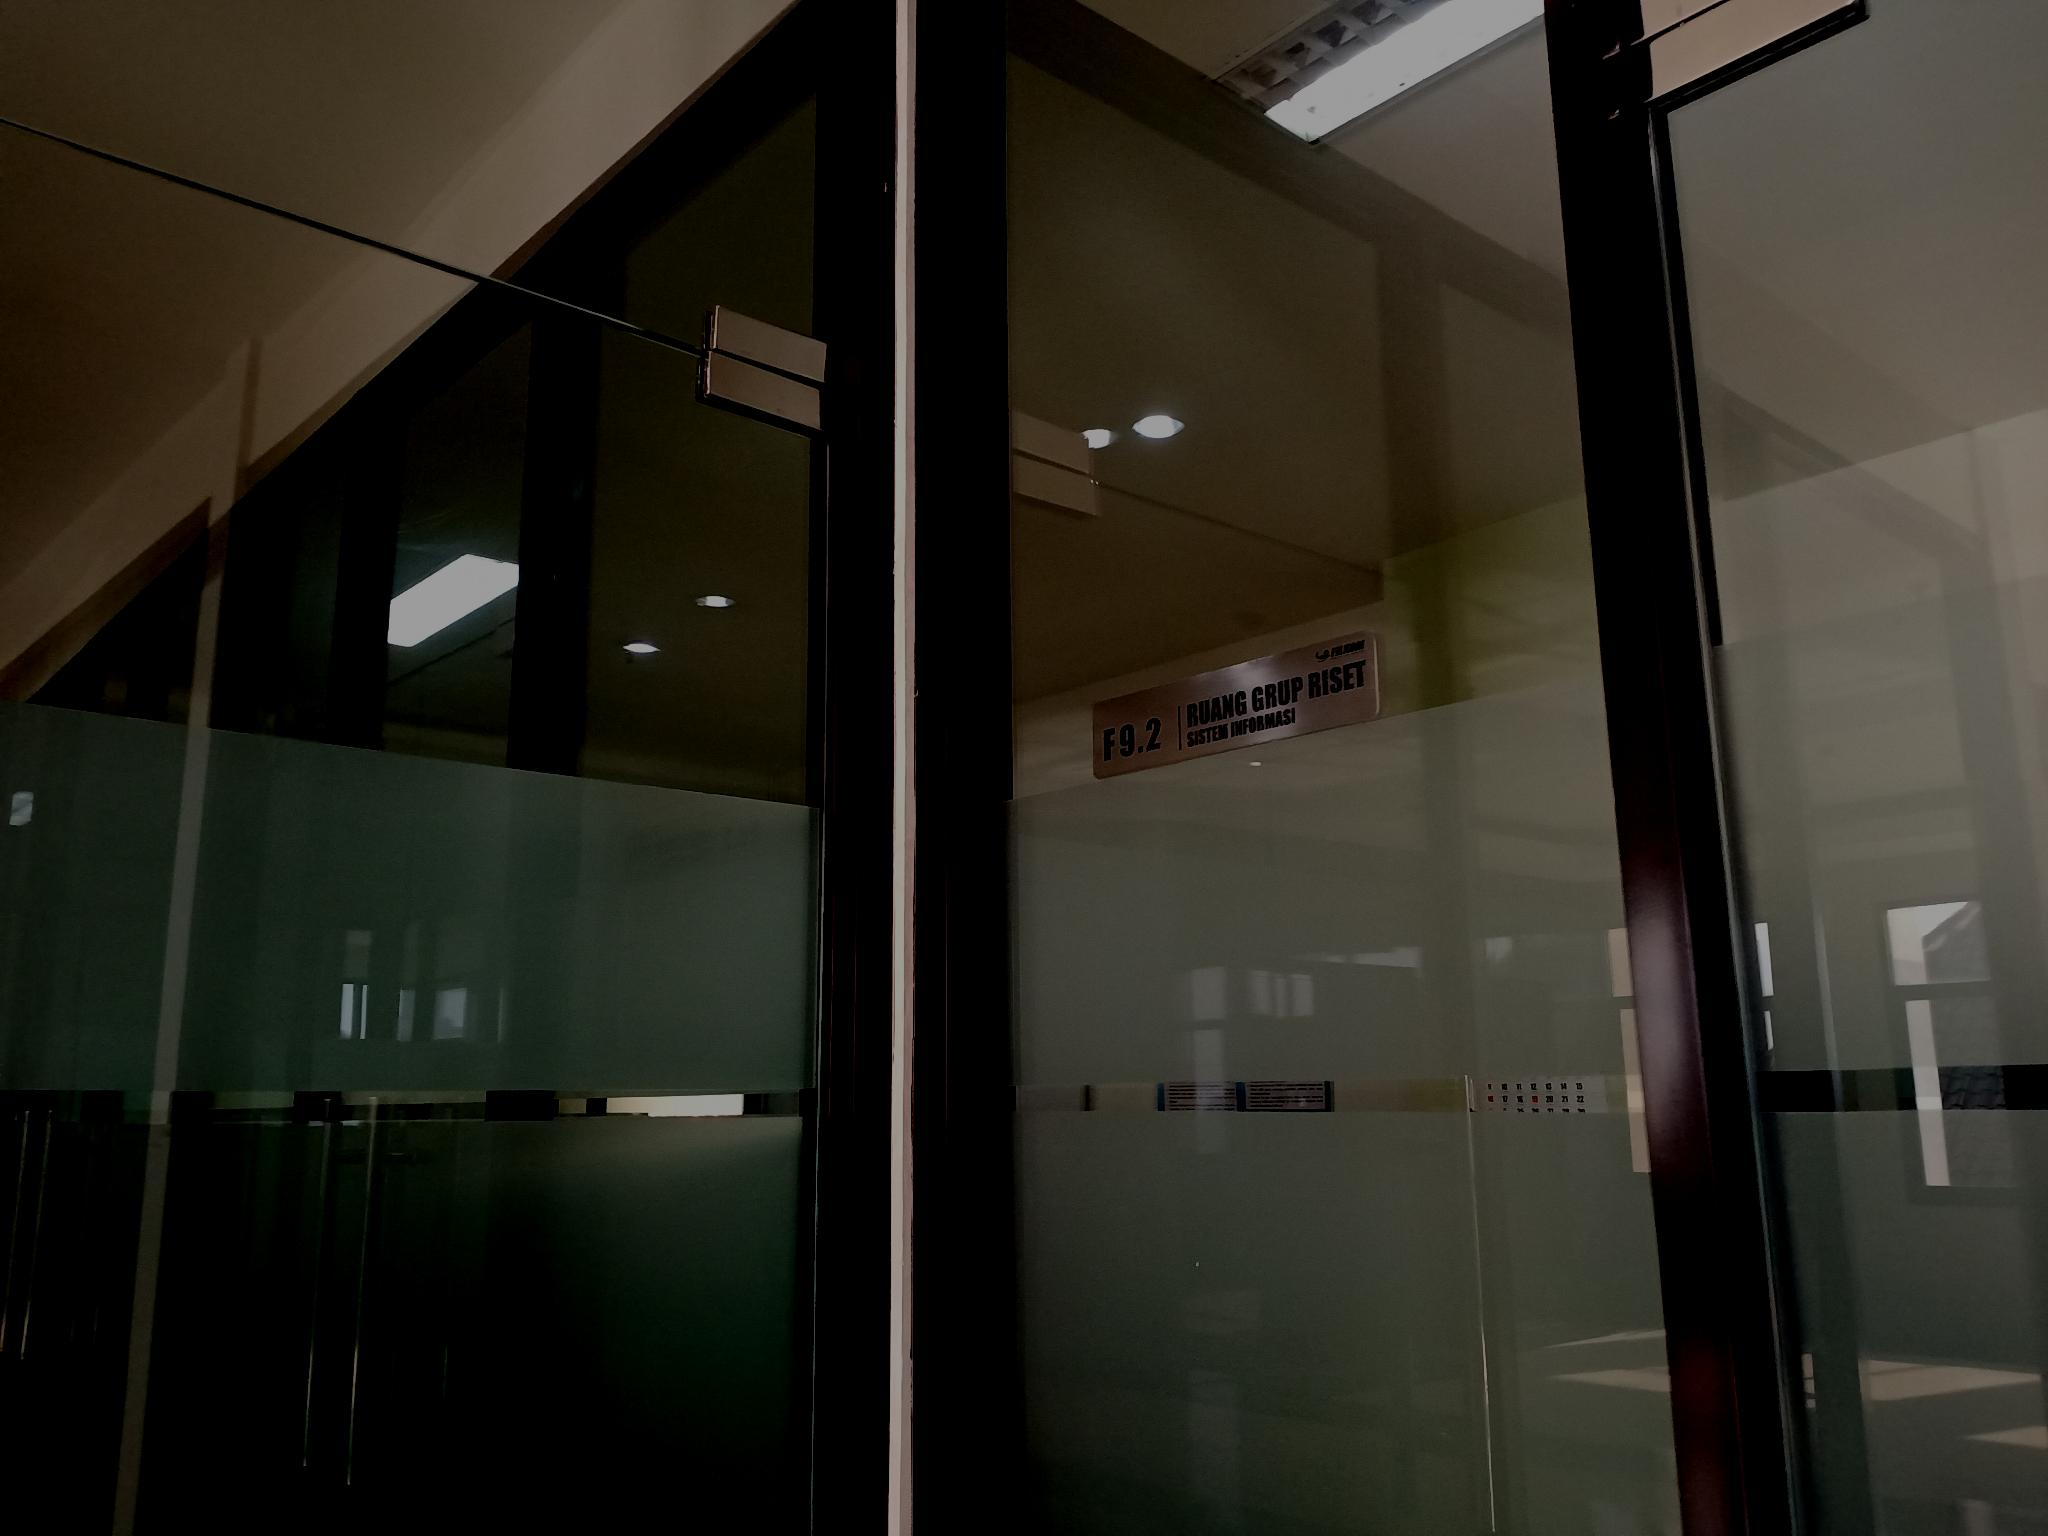plate: (1085, 631, 1385, 786)
